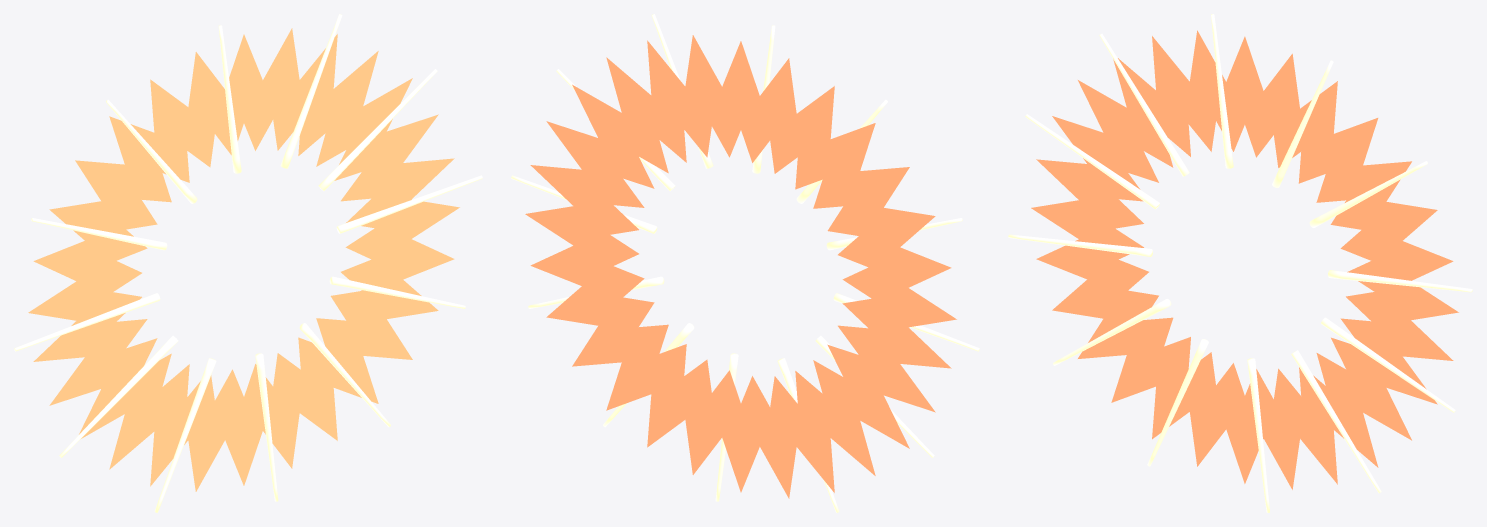
The model's file is VFX_01_大娃_裂地云雷震波.glb.
3 renders of one model, left to right at view 1: azimuth 30°, elevation 25°; view 2: azimuth 150°, elevation 25°; view 3: azimuth 330°, elevation 25°, orthographic.
Visible parts, largest first — view 1: VFX01_Star, Ray_1, Ray_7, Ray_2, Ray_8, Ray_0, Ray_6, Ray_3, Ray_9, Ray_5, Ray_11, Ray_4 (+1 smaller); view 2: VFX01_Star, Ray_0; view 3: VFX01_Star, Ray_4, Ray_10, Ray_5, Ray_11, Ray_3, Ray_9, Ray_0, Ray_6, Ray_2, Ray_8, Ray_1 (+1 smaller).
Part boxes in pixels (bbox=[...]): VFX01_Star: bbox=[28, 28, 459, 491]; Ray_1: bbox=[318, 69, 437, 191]; Ray_7: bbox=[59, 335, 178, 457]; Ray_2: bbox=[280, 14, 342, 168]; Ray_8: bbox=[154, 358, 216, 512]; Ray_0: bbox=[336, 175, 482, 233]; Ray_6: bbox=[14, 293, 160, 351]; Ray_3: bbox=[218, 25, 241, 173]; Ray_9: bbox=[255, 353, 278, 501]; Ray_5: bbox=[31, 218, 167, 250]; Ray_11: bbox=[329, 276, 465, 308]; Ray_4: bbox=[106, 99, 197, 203]; VFX01_Star: bbox=[525, 35, 956, 498]; Ray_0: bbox=[511, 175, 657, 233]; VFX01_Star: bbox=[1031, 30, 1458, 489]; Ray_4: bbox=[1099, 33, 1189, 176]; Ray_10: bbox=[1291, 350, 1381, 493]; Ray_5: bbox=[1025, 114, 1159, 209]; Ray_11: bbox=[1321, 317, 1455, 412]; Ray_3: bbox=[1211, 14, 1233, 168]; Ray_9: bbox=[1247, 358, 1269, 512]; Ray_0: bbox=[1328, 270, 1472, 292]; Ray_6: bbox=[1008, 234, 1152, 256]; Ray_2: bbox=[1272, 60, 1333, 187]; Ray_8: bbox=[1147, 339, 1208, 466]; Ray_1: bbox=[1309, 161, 1427, 227].
Bounding box in the file's own units: 4.21 × 4.21 × 0.102.
